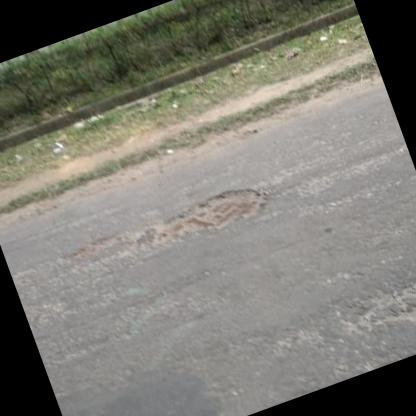pothole: (140, 176, 273, 257)
